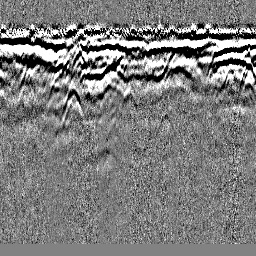cavity: (120, 86, 137, 108)
